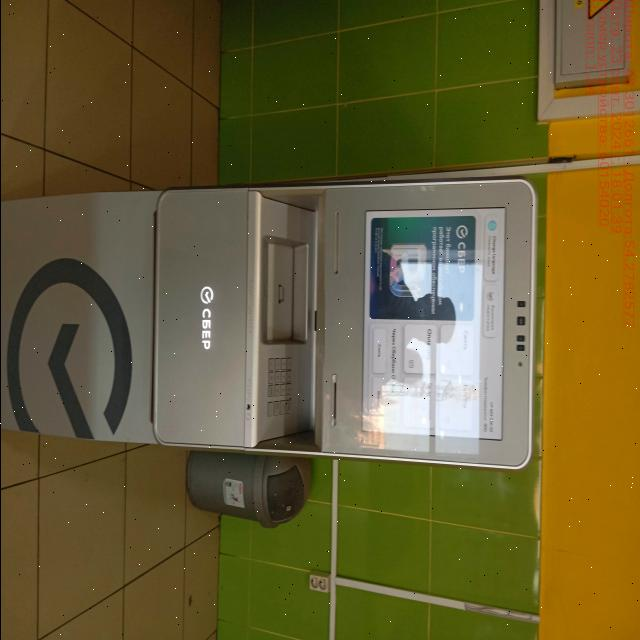bank: (0, 175, 539, 476)
